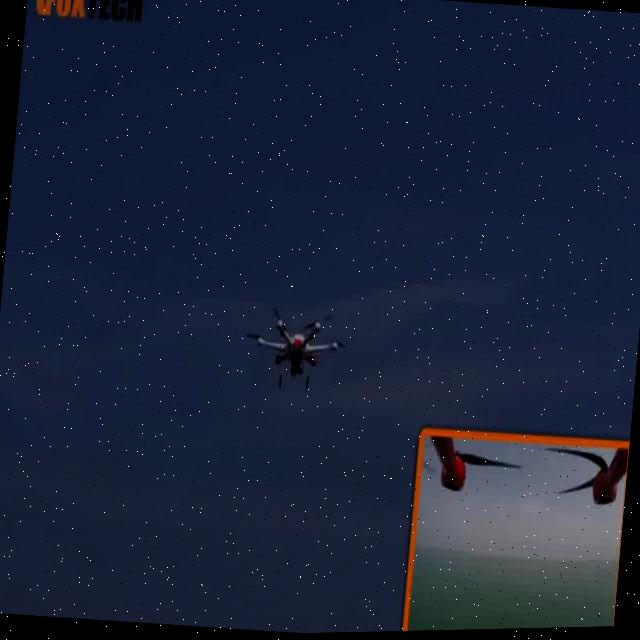drone: (238, 278, 364, 416)
